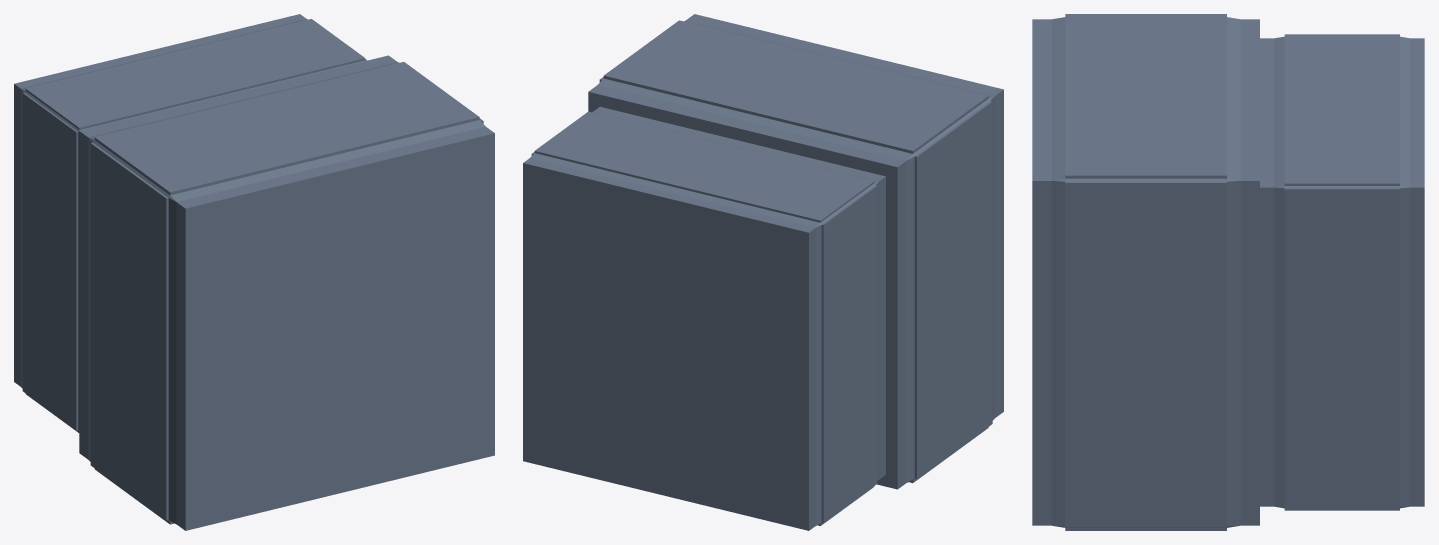
File: bb_comp_Signals_SignalTarget.fbx
The picture shows the model from 3 angles, left to right: view 1: azimuth 30°, elevation 25°; view 2: azimuth 150°, elevation 25°; view 3: azimuth 270°, elevation 25°; orthographic projection. The views are drawn at different scales.
Visible parts, largest first — view 1: bb_comp_Signals_SignalTarget; view 2: bb_comp_Signals_SignalTarget; view 3: bb_comp_Signals_SignalTarget.
Boxes of the visible parts, x1,y1,x2,y2 form: bb_comp_Signals_SignalTarget: (14,14,494,530); bb_comp_Signals_SignalTarget: (523,14,1003,530); bb_comp_Signals_SignalTarget: (1032,14,1424,530).
Size of the model in its own units: 1 by 1 by 1.
